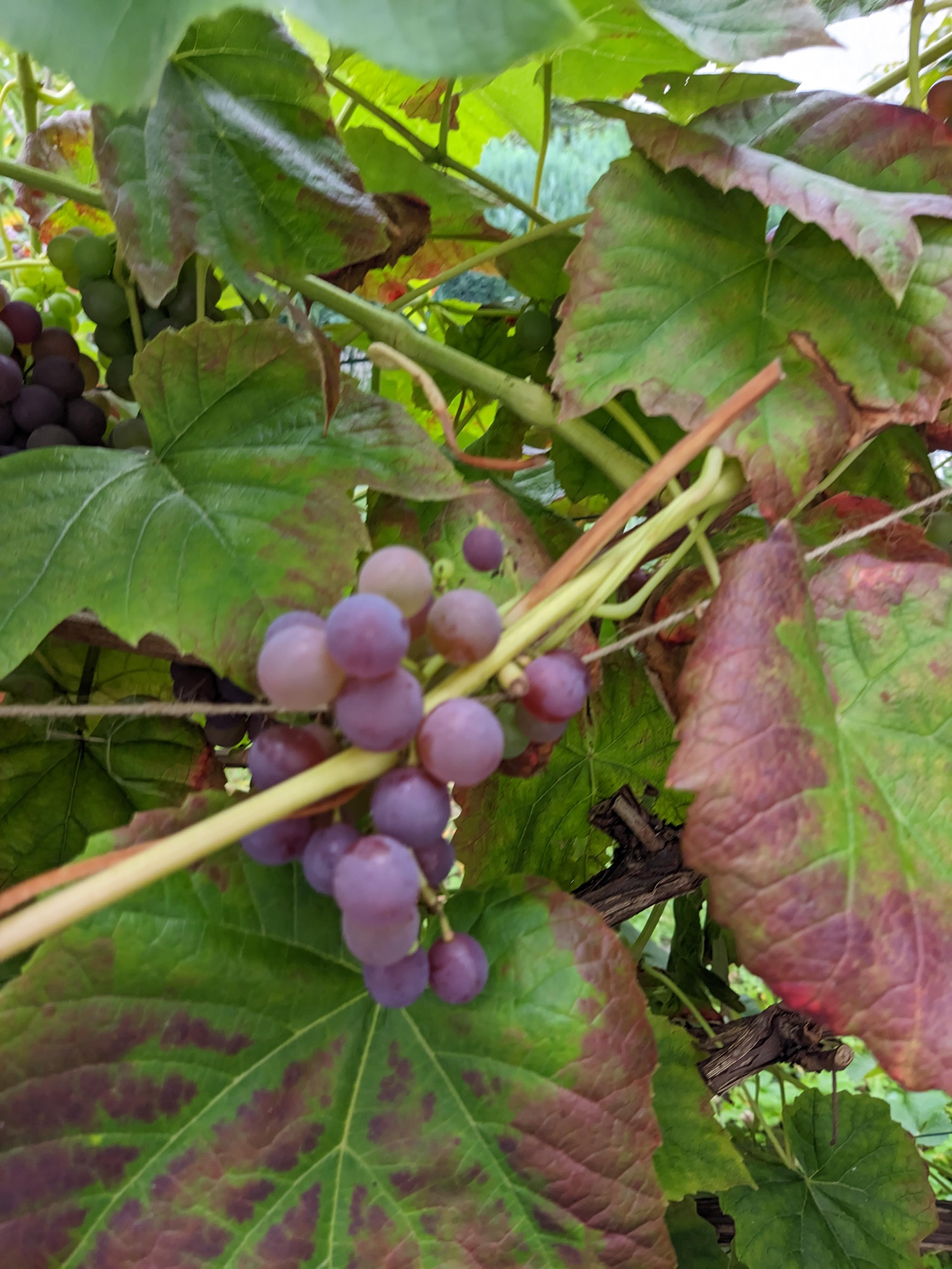Grape Unripe: (237, 524, 586, 1008), (46, 219, 227, 409), (0, 280, 107, 460)
